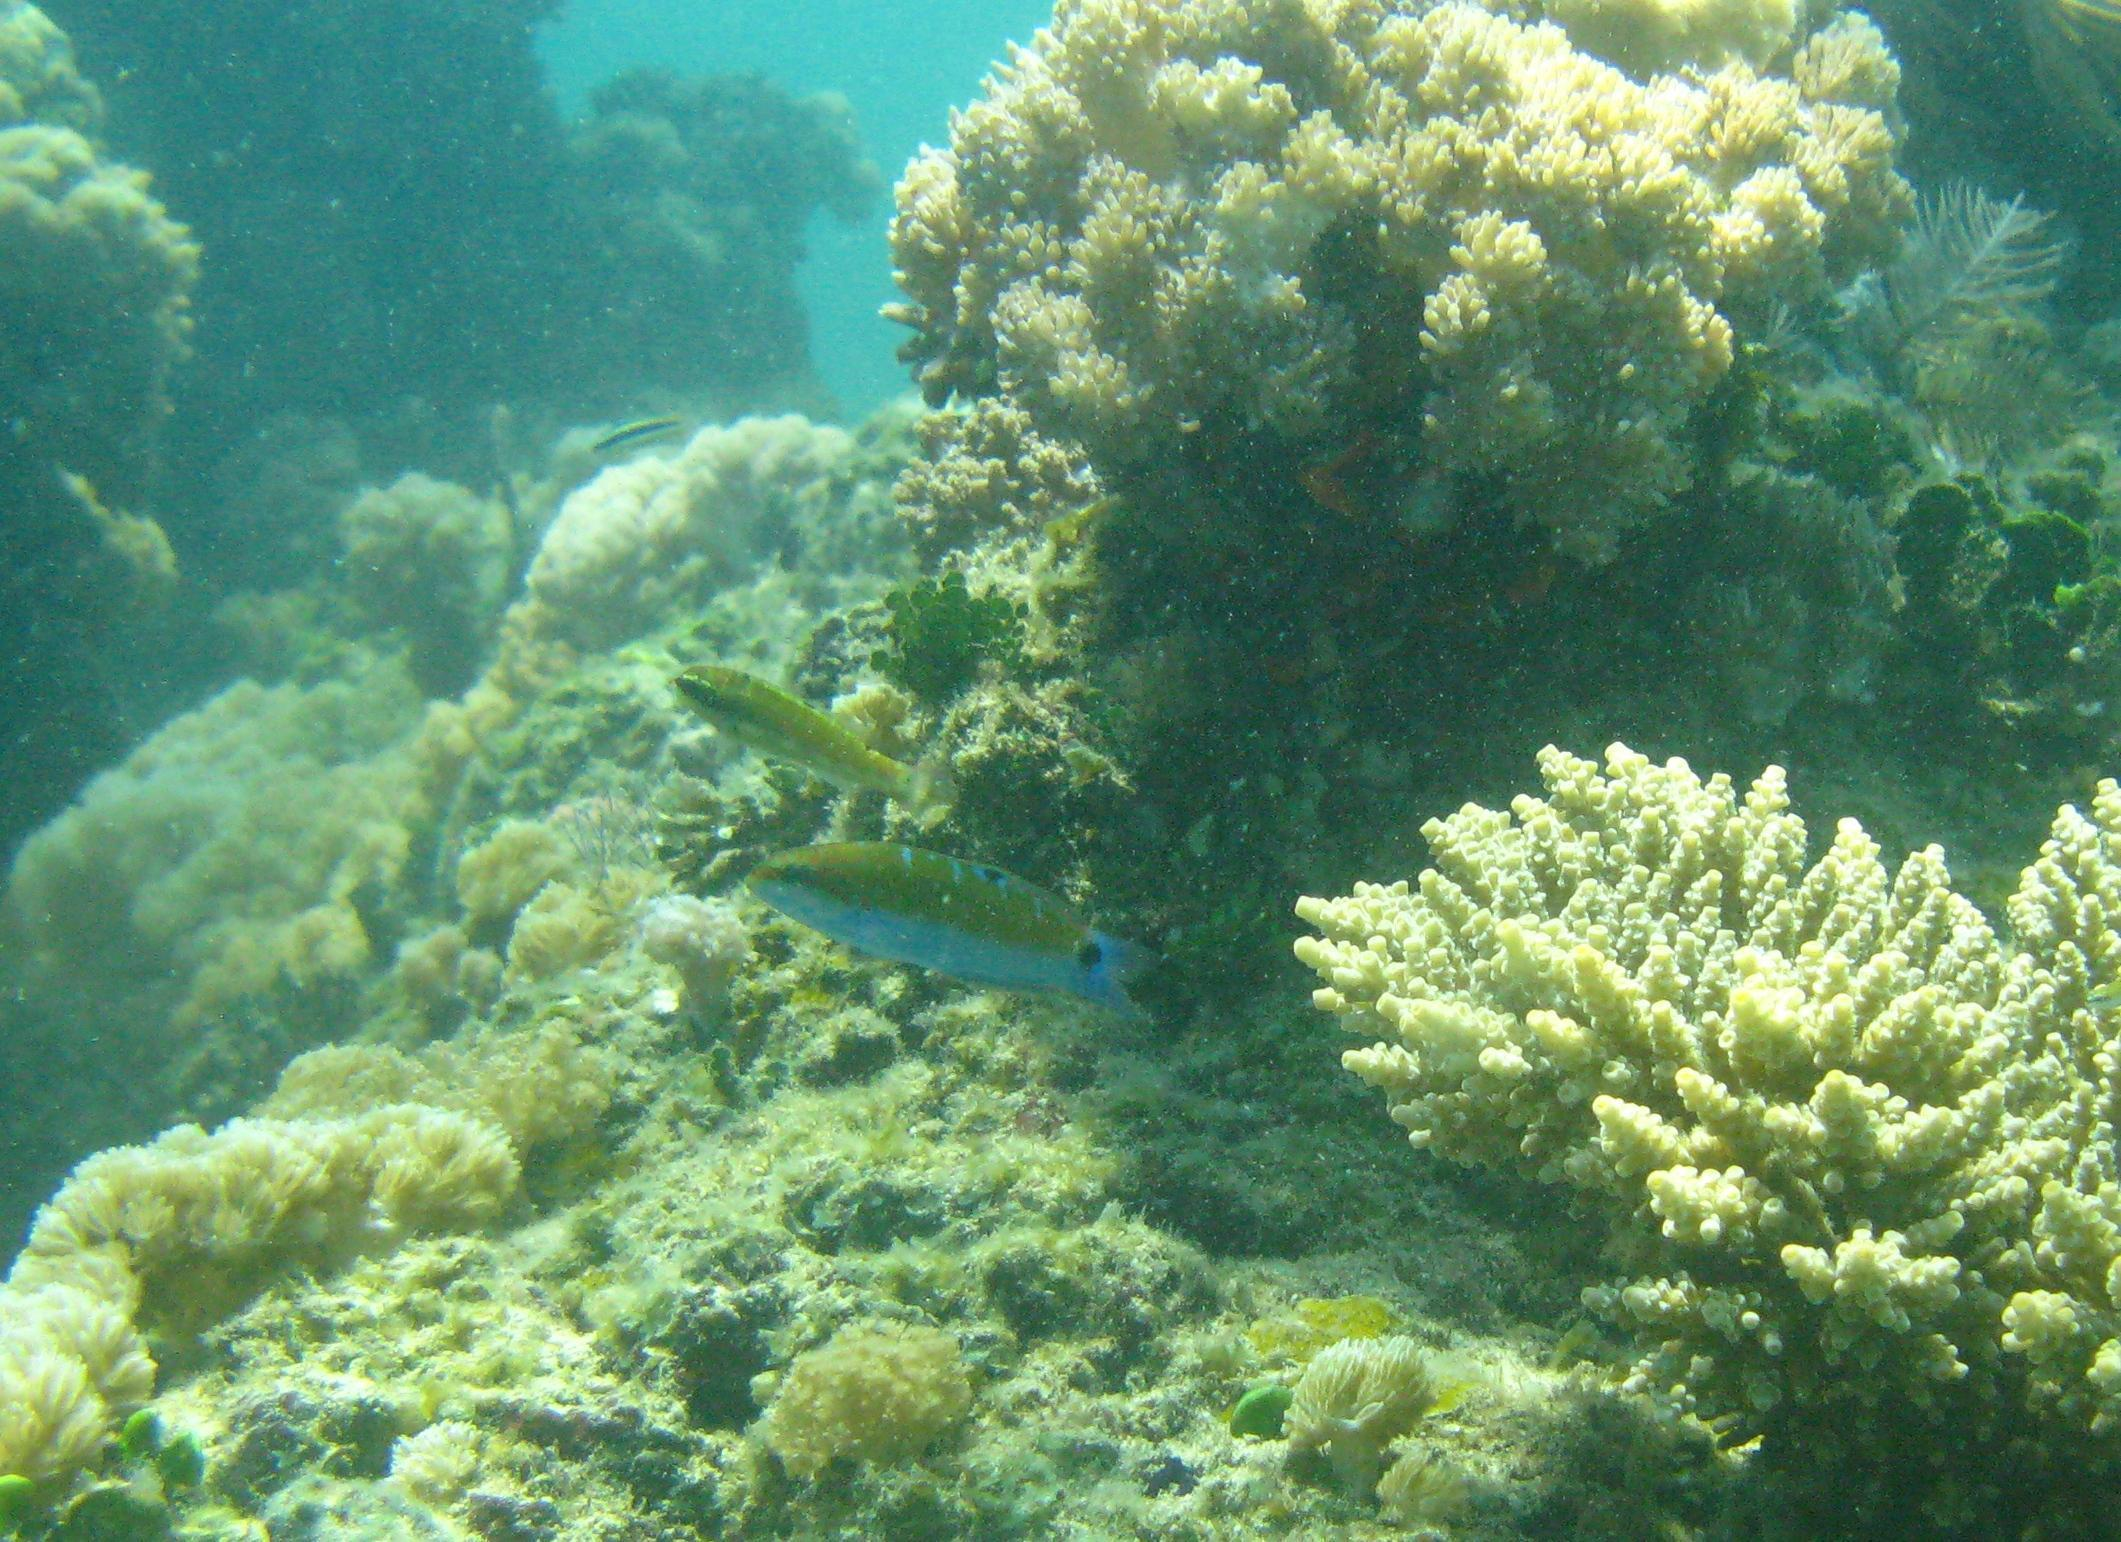Fish: (723, 801, 1177, 1038), (660, 634, 949, 806)
